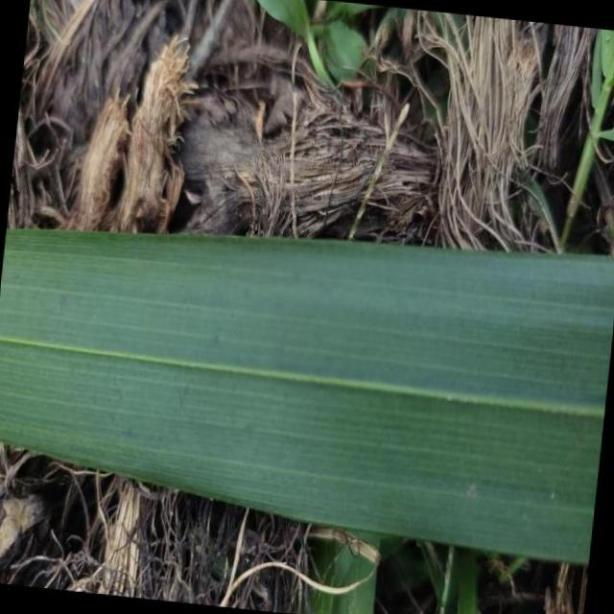Healthy: (6, 223, 614, 568)
